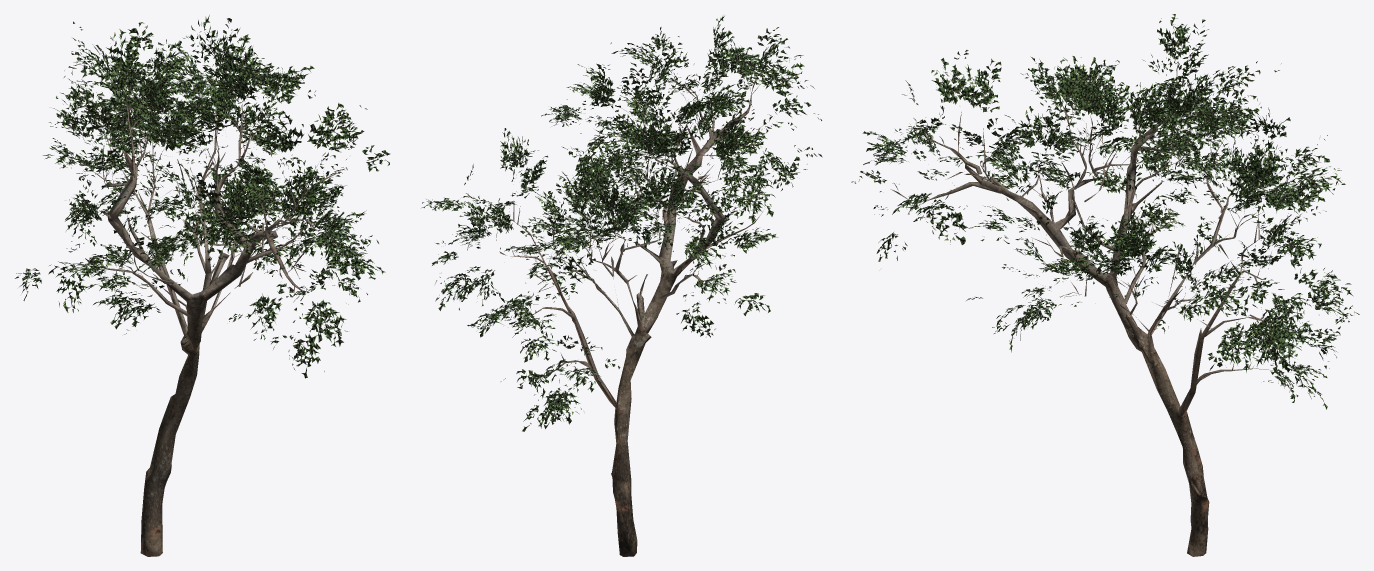
The model's file is tree_small_02_webp2.glb.
3 renders of one model, left to right at view 1: azimuth 30°, elevation 25°; view 2: azimuth 150°, elevation 25°; view 3: azimuth 270°, elevation 25°, orthographic. The views are drawn at different scales.
Parts seen in each view (by area): view 1: tree_small_02_LOD0; view 2: tree_small_02_LOD0; view 3: tree_small_02_LOD0.
Boxes of the visible parts, x1,y1,x2,y2 form: tree_small_02_LOD0: (15, 15, 390, 556); tree_small_02_LOD0: (422, 16, 822, 556); tree_small_02_LOD0: (851, 14, 1359, 556).
Bounding box in the file's own units: 2.88 × 4.55 × 4.18.
3 materials, 3 textured.
